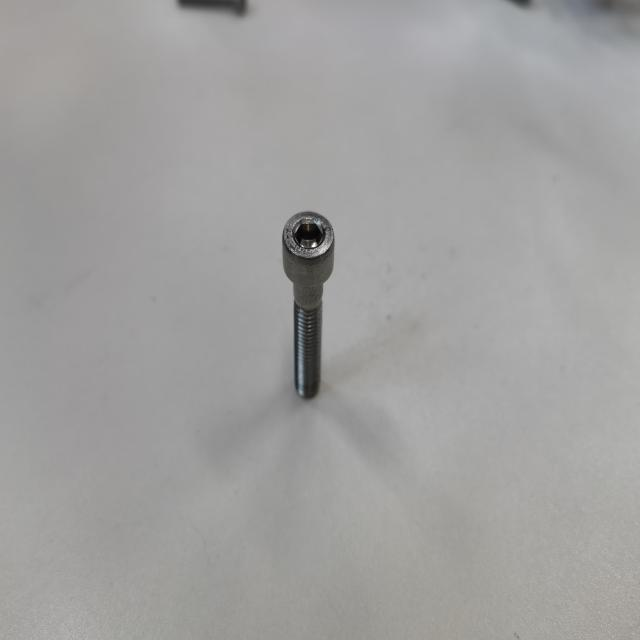screws: (280, 207, 336, 400)
